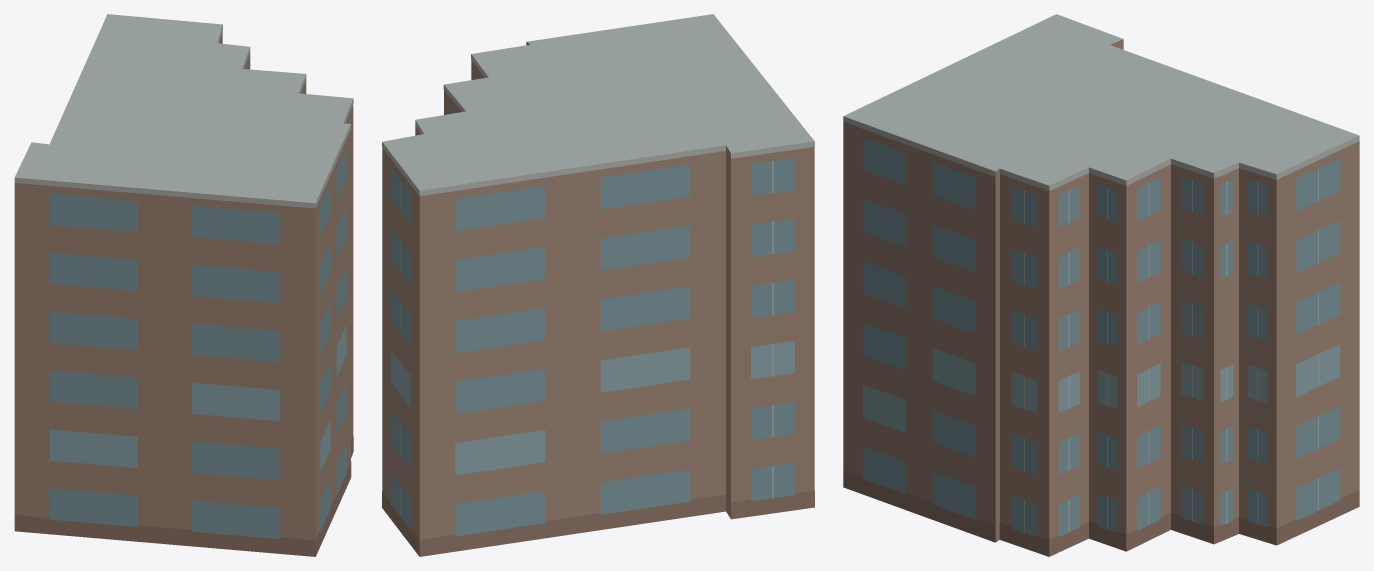
The model's file is survey-upis-32958248.glb.
The picture shows the model from 3 angles, left to right: view 1: azimuth 30°, elevation 25°; view 2: azimuth 150°, elevation 25°; view 3: azimuth 270°, elevation 25°; orthographic projection. The views are drawn at different scales.
Visible parts, largest first — view 1: survey-upis-32958248.tmp; view 2: survey-upis-32958248.tmp; view 3: survey-upis-32958248.tmp.
Part boxes in pixels (x1,y1,x2,y2): survey-upis-32958248.tmp: [14, 14, 353, 556]; survey-upis-32958248.tmp: [382, 14, 814, 556]; survey-upis-32958248.tmp: [843, 14, 1359, 556].
Size of the model in its own units: 16.28 by 16.4 by 20.68.
